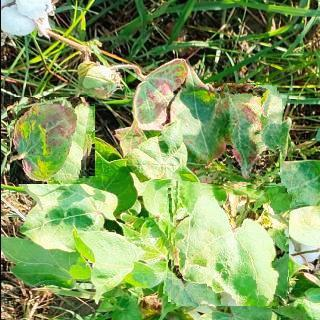blight: (208, 83, 281, 187)
curl: (165, 184, 288, 306)
leaf spot: (9, 99, 91, 181)
